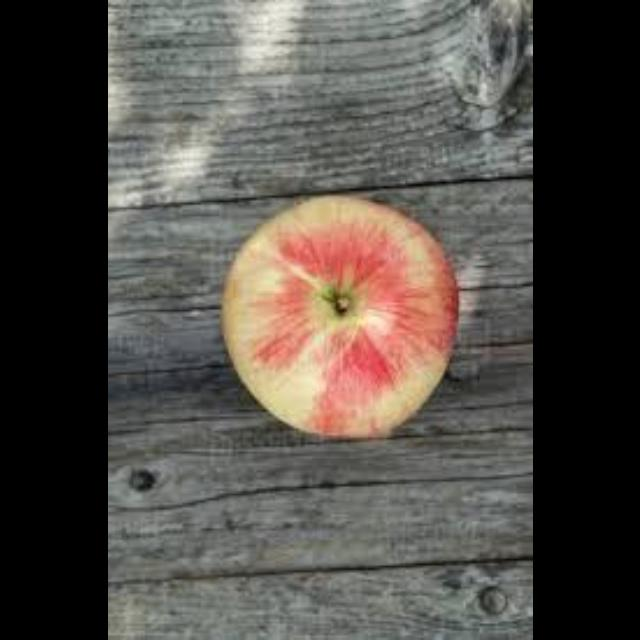apple: (221, 195, 456, 438)
